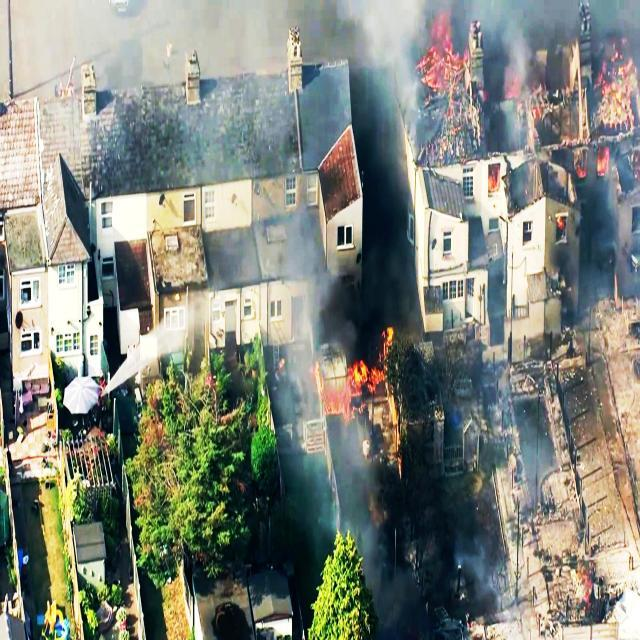Fire: (300, 329, 392, 427), (413, 12, 471, 104), (596, 55, 636, 133)
